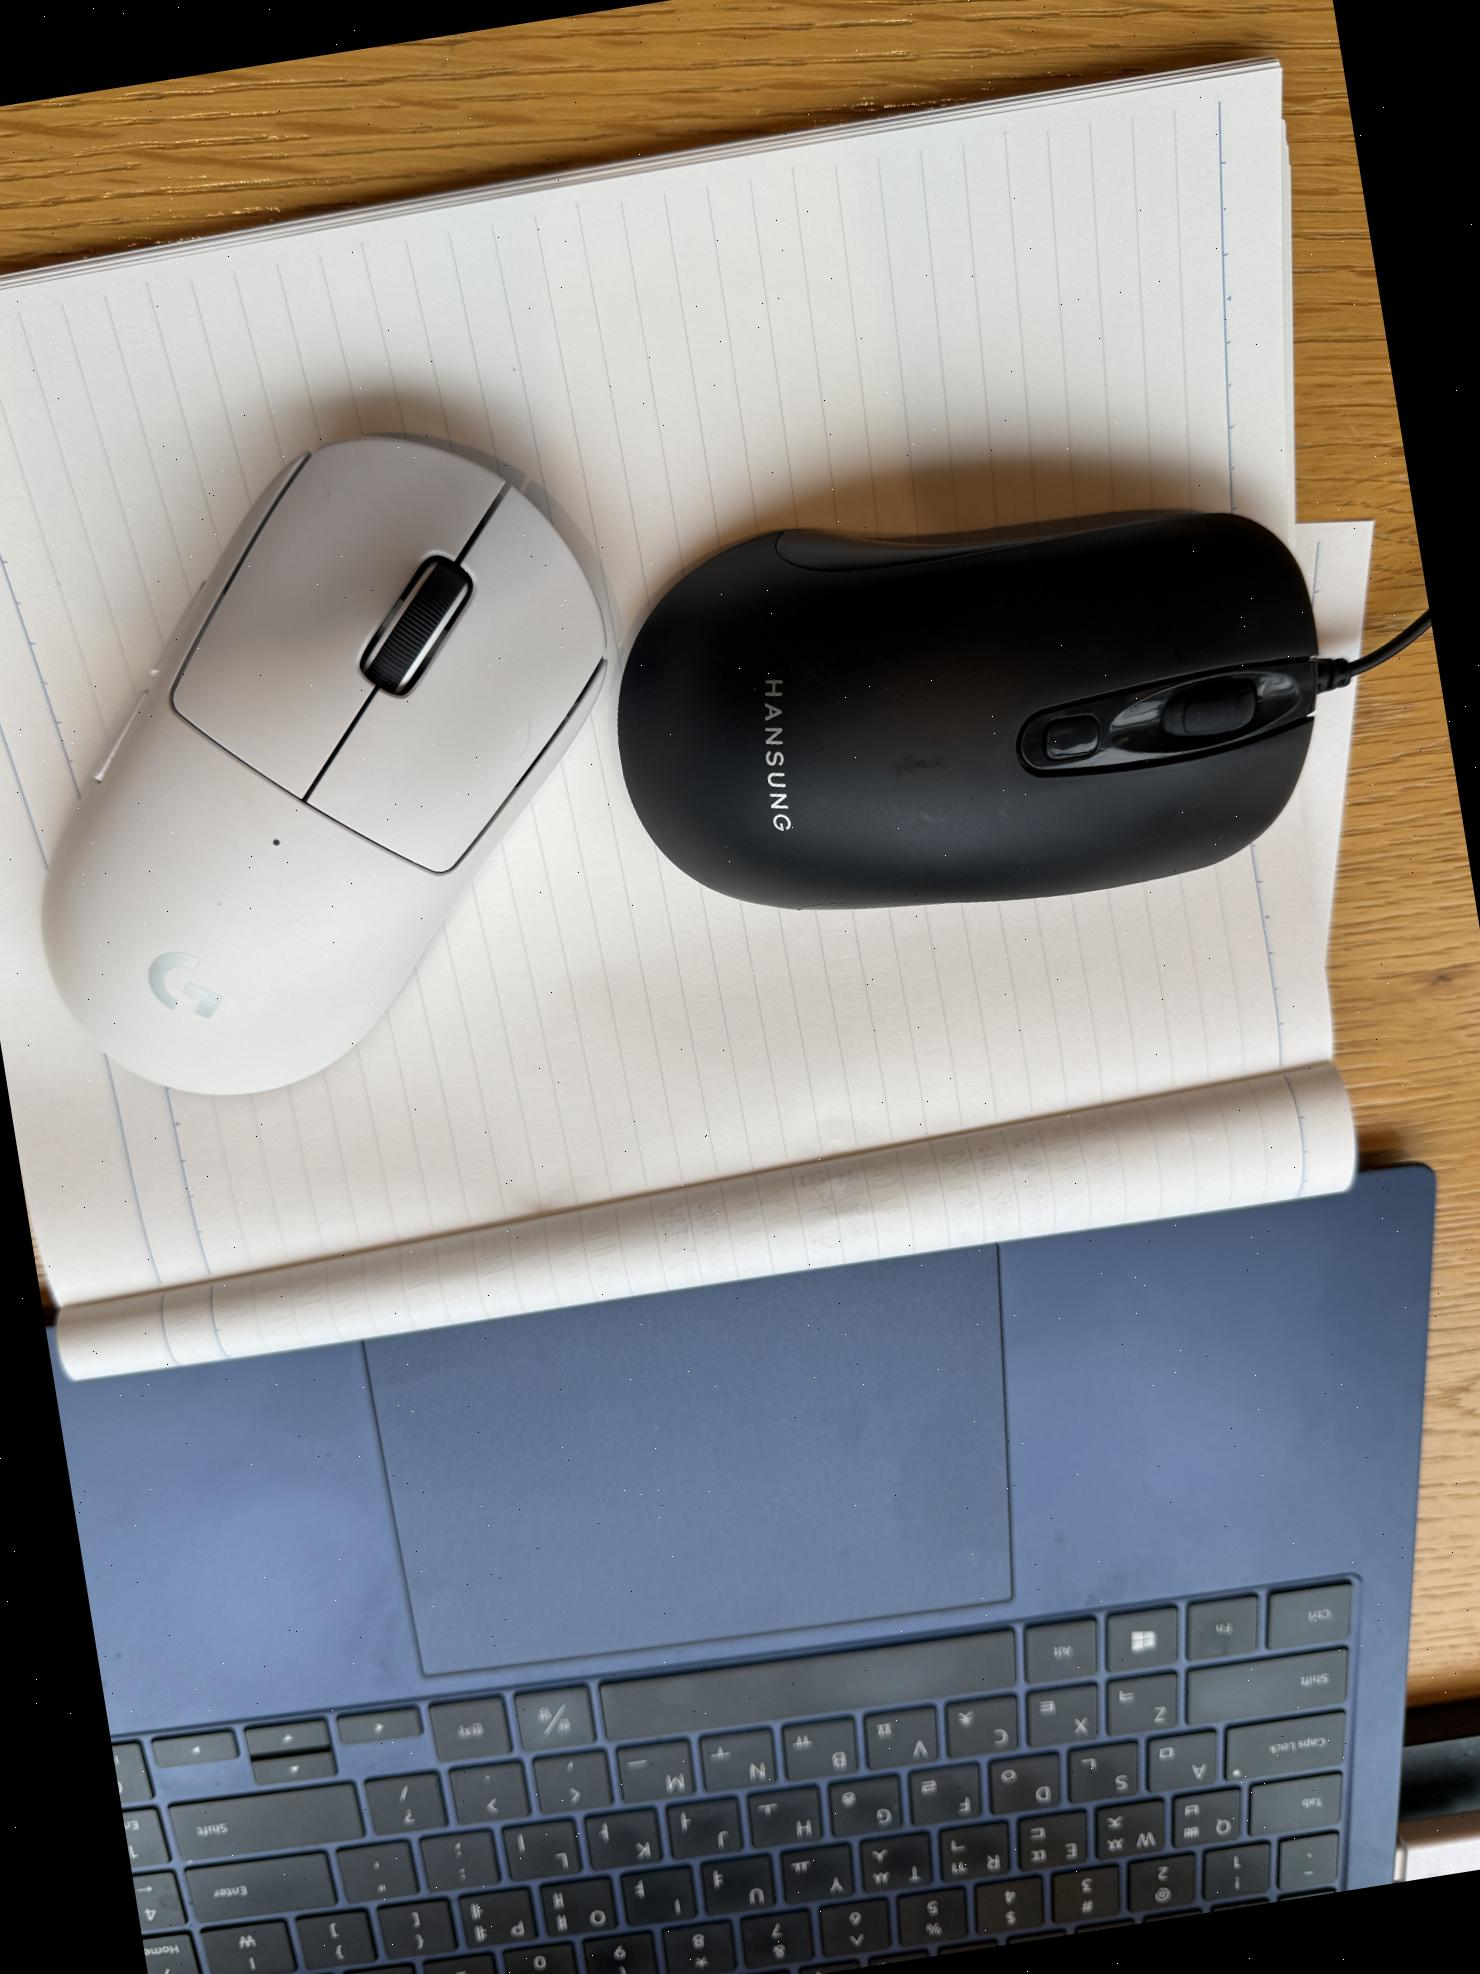front: (0, 389, 673, 1133), (588, 449, 1356, 965)
